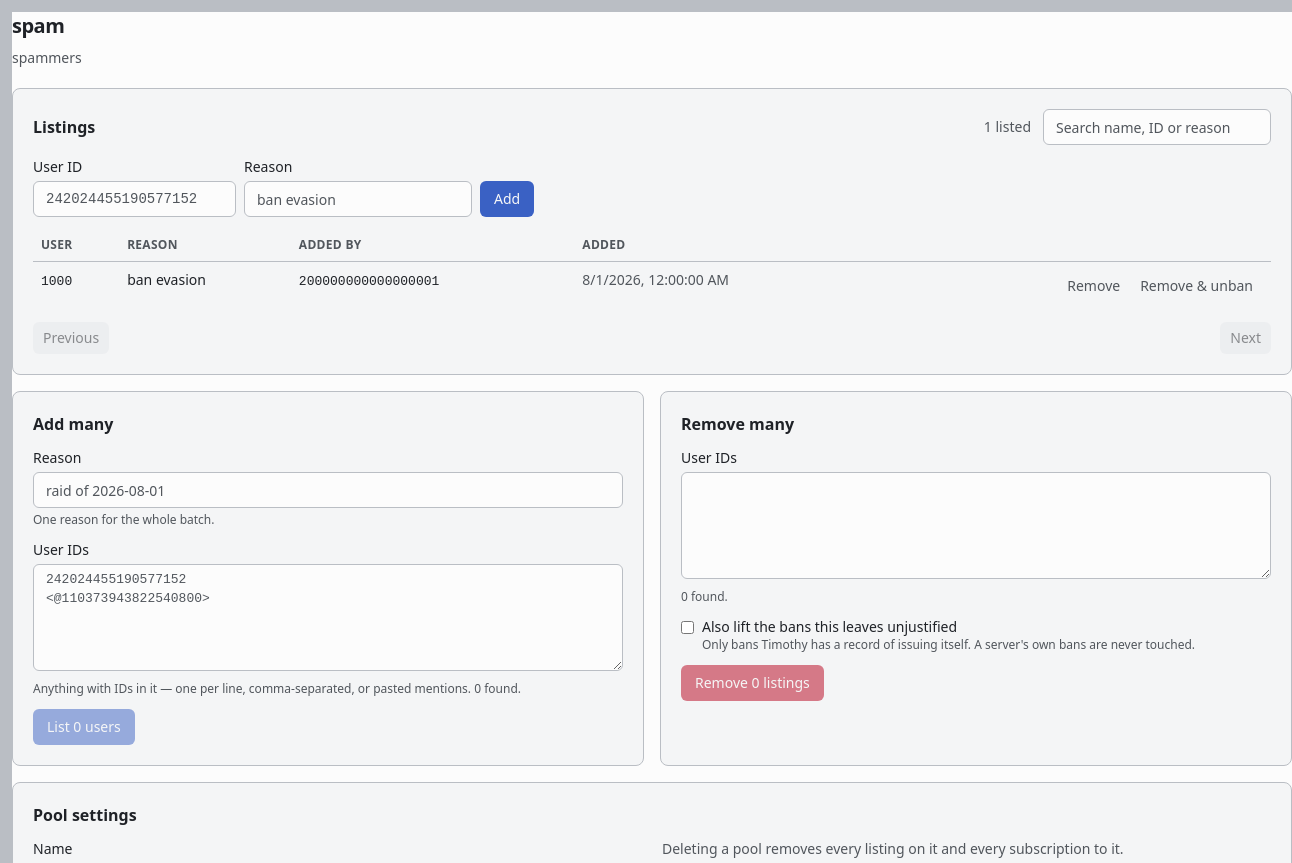
the listing table › searches the backend rather than filtering what is on screen
Expected: the text "1000" is shown, [41,274,72,289]
Type "evasion" into the search field at coordinates (1157, 127), box [1043,109,1271,145]
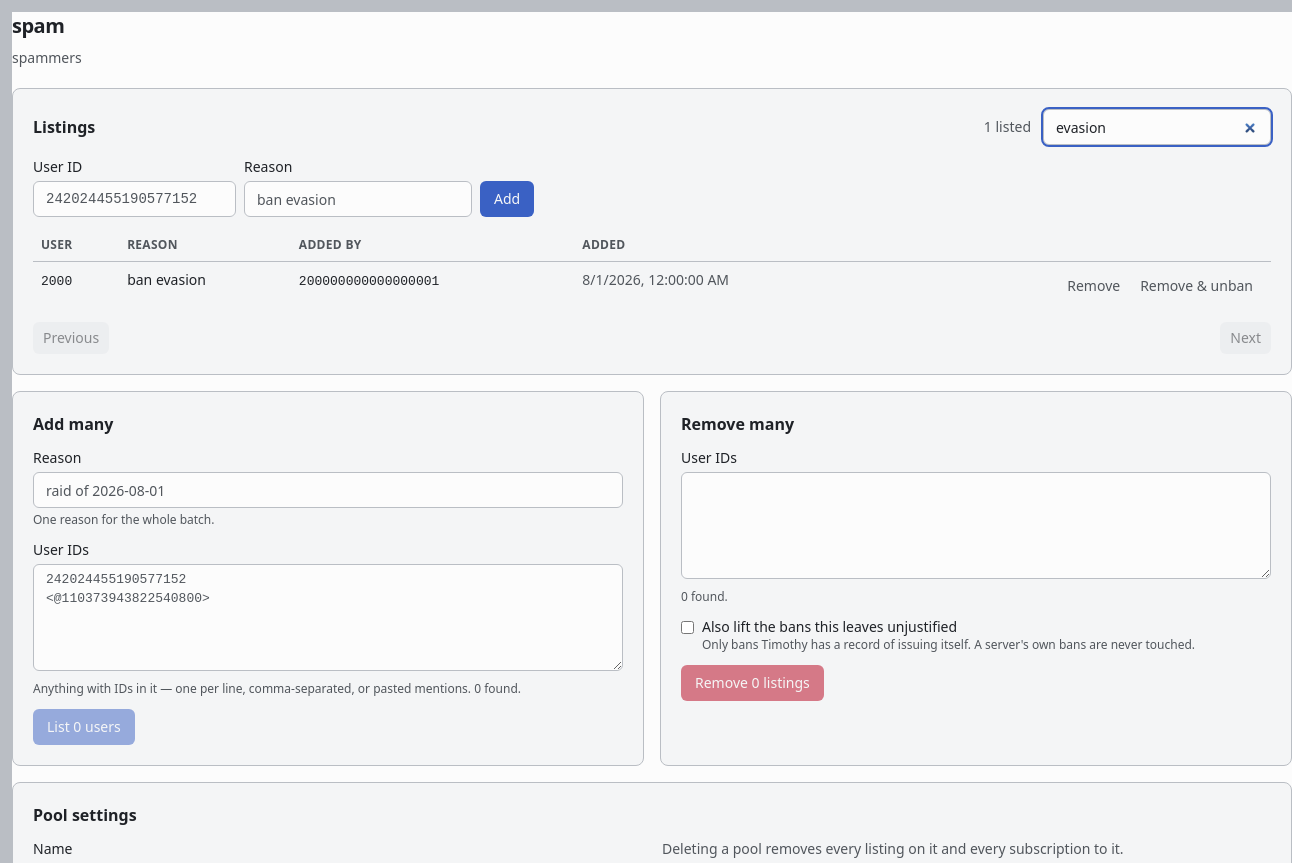
Expected: the text "2000" is shown, [41,274,72,289]
